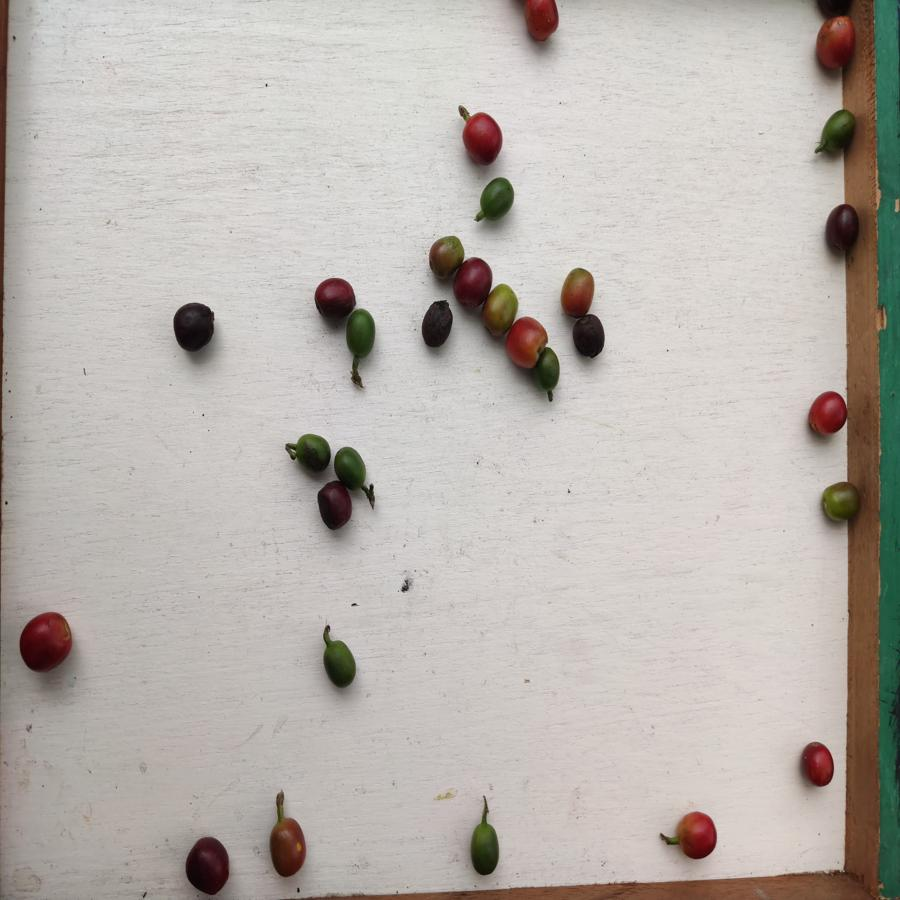Inmaduro: (318, 640, 370, 692), (468, 814, 505, 878), (287, 432, 338, 474), (819, 108, 857, 160), (479, 172, 515, 221), (344, 309, 378, 358), (337, 442, 370, 488), (535, 345, 562, 392)
Maduro: (17, 612, 74, 675), (458, 108, 503, 166), (802, 386, 848, 439), (814, 16, 857, 72), (508, 314, 544, 372), (678, 809, 716, 860), (799, 738, 835, 789), (522, 1, 562, 45)
Pinton: (263, 817, 310, 879), (479, 288, 518, 338), (822, 481, 863, 525), (559, 263, 595, 313), (428, 234, 462, 279)
Sobremaduro: (184, 835, 230, 895), (172, 301, 216, 351), (823, 202, 862, 257), (315, 483, 355, 530), (314, 274, 355, 315), (572, 312, 605, 361), (420, 298, 452, 348), (455, 258, 488, 302)
